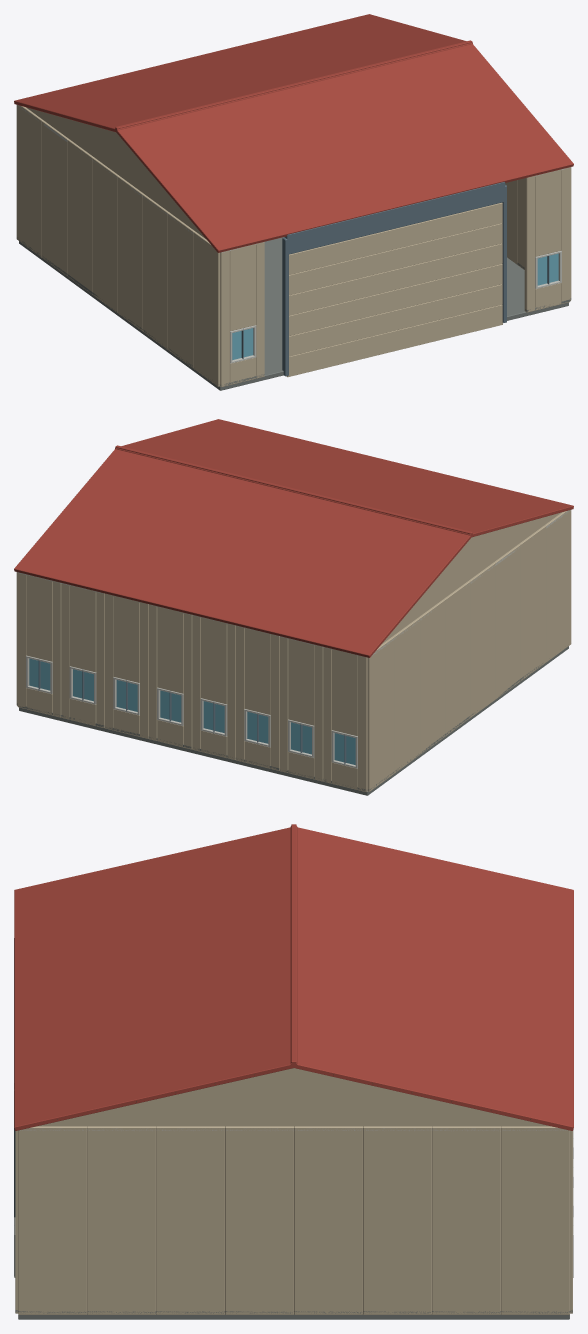
File: architecture-hangar.lod0.glb
The picture shows the model from 3 angles, top to bottom: view 1: azimuth 30°, elevation 25°; view 2: azimuth 150°, elevation 25°; view 3: azimuth 270°, elevation 25°; orthographic projection. The views are drawn at different scales.
Visible parts, largest first — view 1: architecture-hangar__body, architecture-hangar__loading_door; view 2: architecture-hangar__body; view 3: architecture-hangar__body.
Part boxes in pixels (x1,y1,x2,y2): architecture-hangar__body: [14, 14, 573, 390]; architecture-hangar__loading_door: [287, 202, 502, 377]; architecture-hangar__body: [14, 419, 573, 795]; architecture-hangar__body: [14, 824, 573, 1319].
Size of the model in its own units: 16.31 by 8.44 by 16.25.
